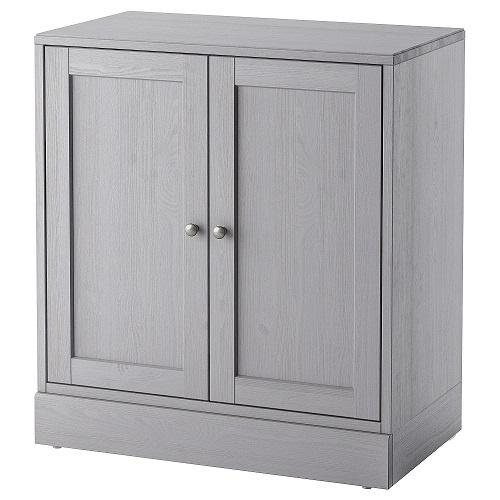cabinet_door: (216, 62, 387, 404), (45, 52, 207, 390)
handle: (212, 221, 227, 246), (186, 219, 200, 243)
